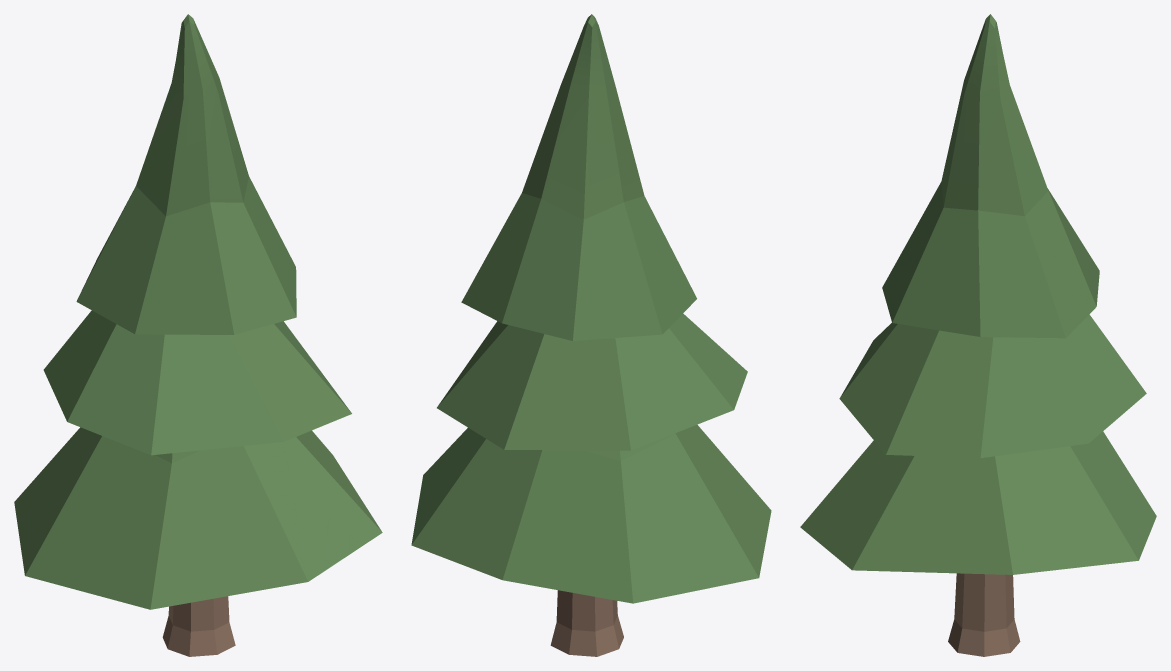
Rendered from Pine_Trees_Pack_Pine_03.001.fbx.
The picture shows the model from 3 angles, left to right: view 1: azimuth 30°, elevation 25°; view 2: azimuth 150°, elevation 25°; view 3: azimuth 270°, elevation 25°; orthographic projection.
Parts seen in each view (by area): view 1: Pine_Trees_Pack_Pine_03.001; view 2: Pine_Trees_Pack_Pine_03.001; view 3: Pine_Trees_Pack_Pine_03.001.
Part boxes in pixels (x1,y1,x2,y2): Pine_Trees_Pack_Pine_03.001: (14, 14, 382, 656); Pine_Trees_Pack_Pine_03.001: (411, 14, 771, 656); Pine_Trees_Pack_Pine_03.001: (800, 14, 1156, 656).
Bounding box in the file's own units: 148 × 276 × 143.
